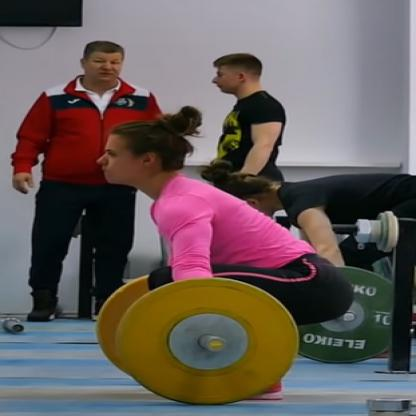Barbell: (108, 274, 304, 408)
